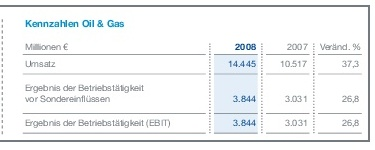table: (0, 0, 375, 150)
